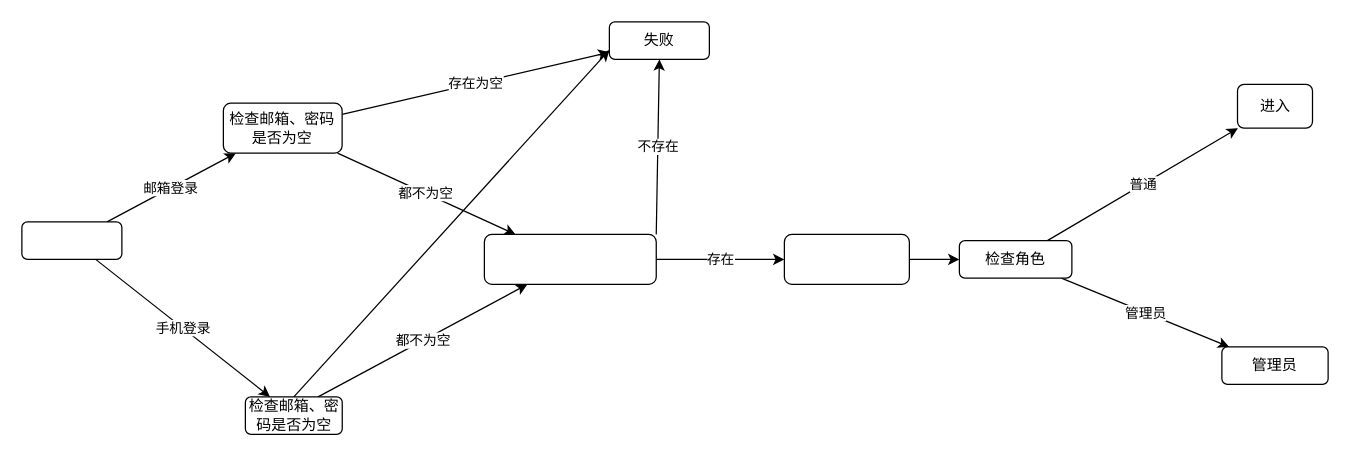
The diagram is 1350 pixels wide and 456 high, and some of its shapes have lost their labels. Each missing label, with the centre of its shape:
"检查密码是否正确" goes at (x=846, y=258).
"检查用户是否存在" goes at (x=569, y=258).
"登录方式" goes at (x=71, y=240).
